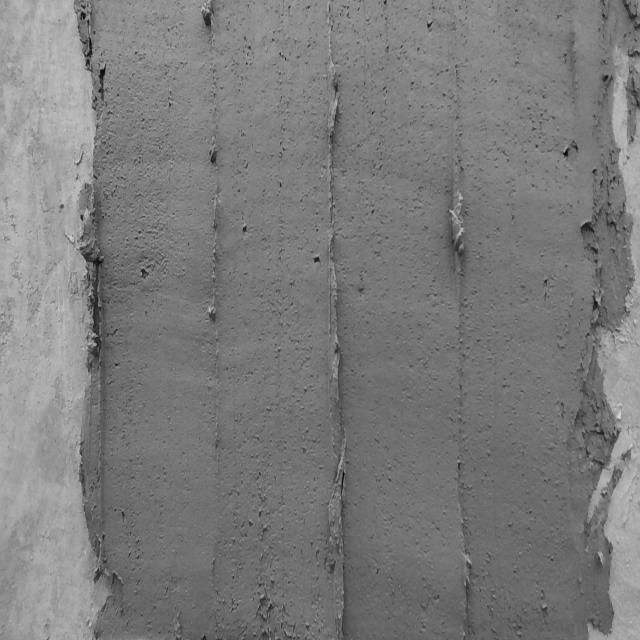trowels marks: (319, 3, 352, 640), (200, 0, 222, 437), (451, 67, 467, 325), (456, 412, 474, 637)
